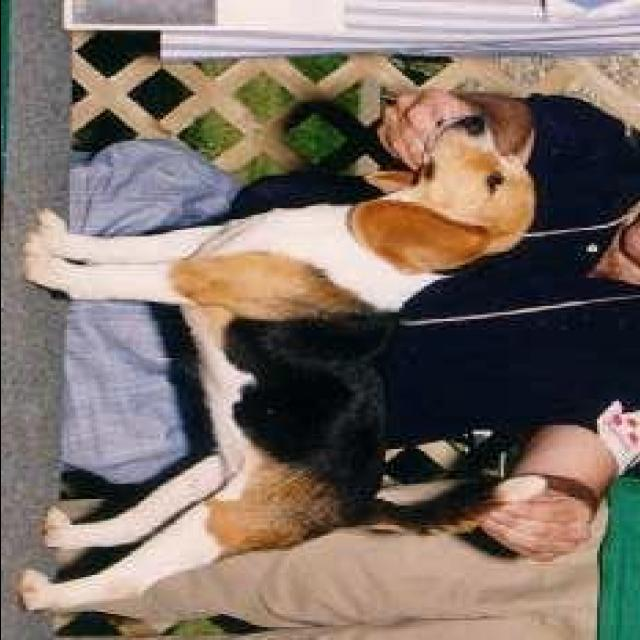beagle: (19, 115, 536, 603)
